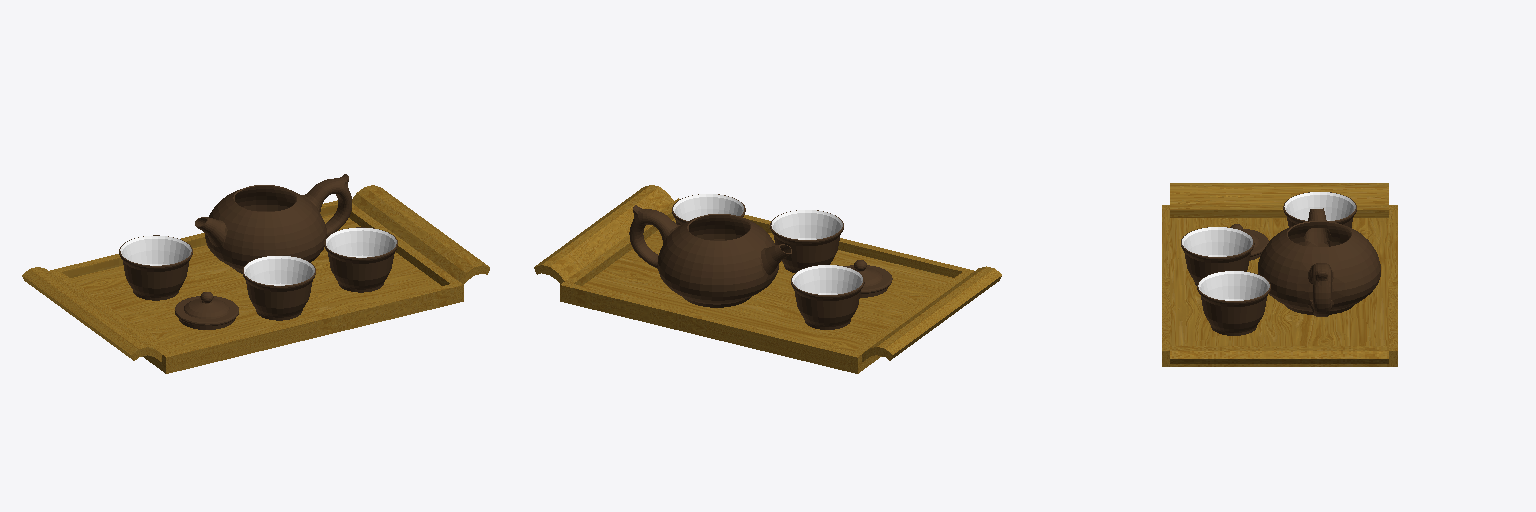
3 renders of one model, left to right at view 1: azimuth 30°, elevation 25°; view 2: azimuth 150°, elevation 25°; view 3: azimuth 270°, elevation 25°, orthographic.
Visible parts, largest first — view 1: tea_set; view 2: tea_set; view 3: tea_set.
Boxes of the visible parts, box(x1,y1,x2,y2) form: tea_set: box(22, 174, 489, 373); tea_set: box(534, 185, 1001, 373); tea_set: box(1162, 183, 1397, 366).
Size of the model in its own units: 4.87 by 0.9998 by 2.78.
Materials: 1 (1 with a texture image).